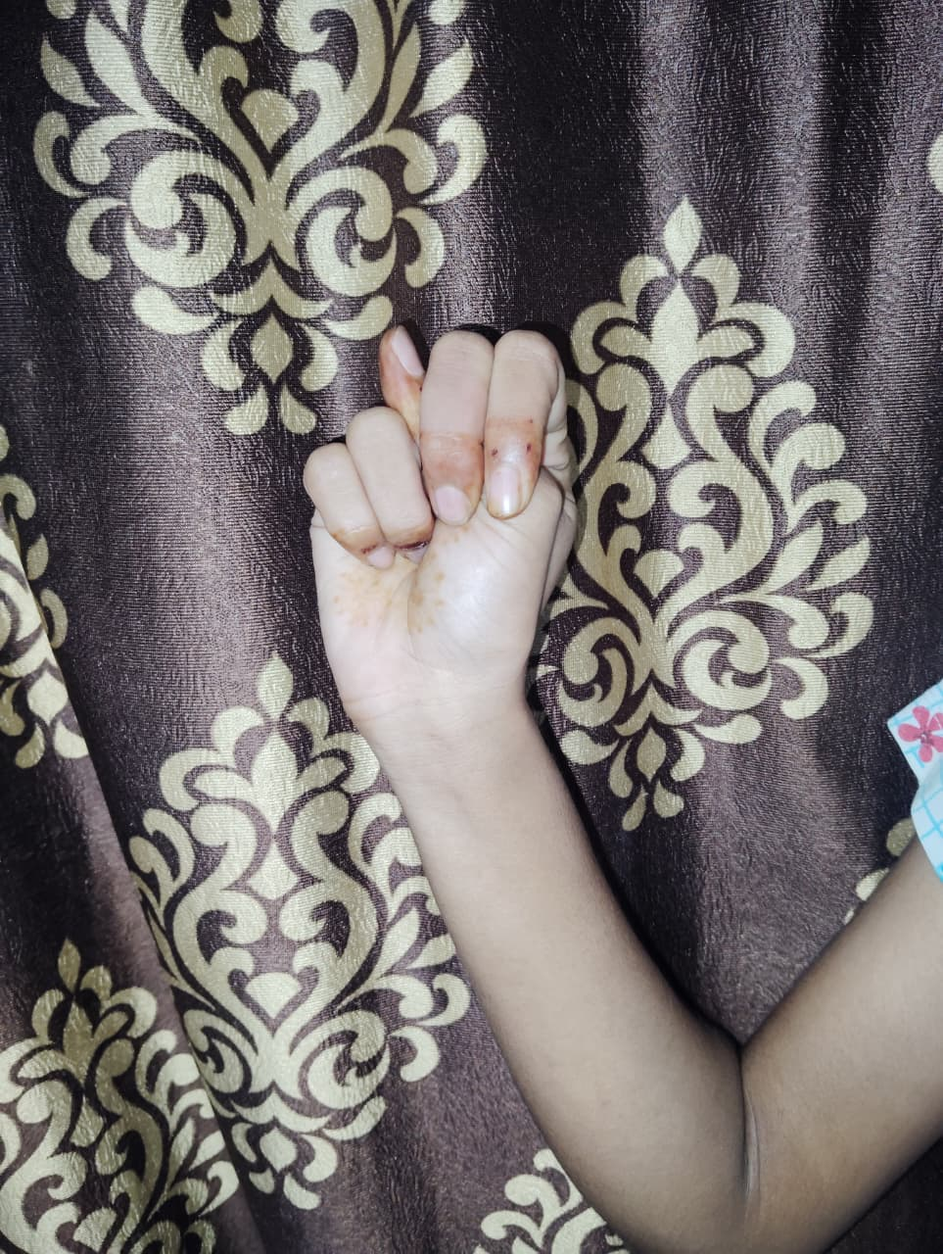N: (306, 324, 577, 697)
